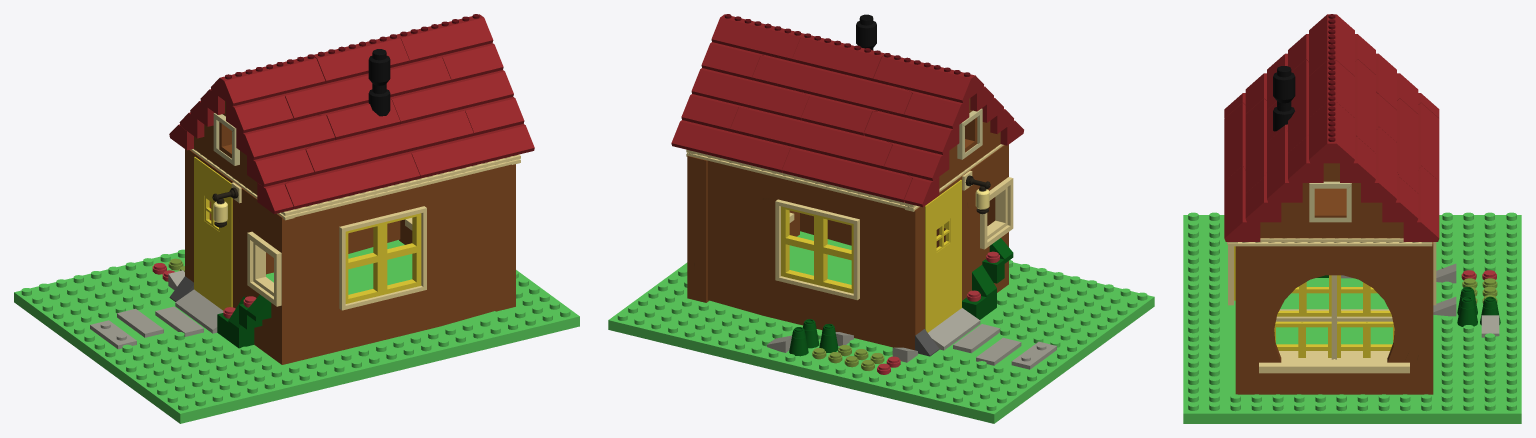
File: legocabin2.FBX
3 renders of one model, left to right at view 1: azimuth 30°, elevation 25°; view 2: azimuth 150°, elevation 25°; view 3: azimuth 270°, elevation 25°, orthographic. The views are drawn at different scales.
Parts seen in each view (by area): view 1: Object023, Box037; view 2: Object023, Box037; view 3: Object023, Box037.
Boxes of the visible parts, box(x1,y1,x2,y2) form: Object023: box(14, 149, 579, 423); Box037: box(169, 14, 534, 214); Object023: box(608, 144, 1154, 423); Box037: box(671, 14, 1023, 207); Object023: box(1183, 212, 1521, 423); Box037: box(1224, 14, 1439, 241).
Size of the model in its own units: 243 by 160 by 175.
